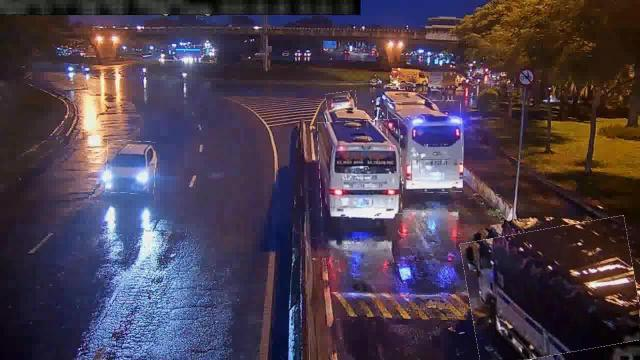Bus: (318, 120, 402, 216), (389, 101, 463, 193)
Car: (106, 140, 156, 194), (327, 92, 358, 112)
Truck: (464, 221, 640, 359)
